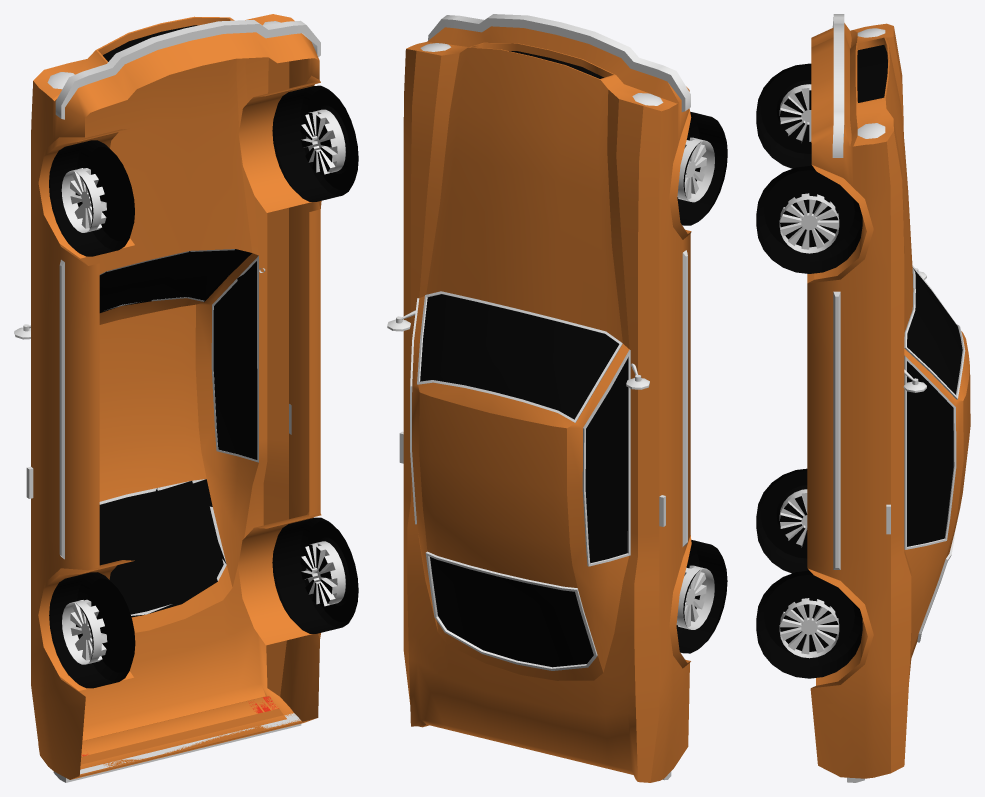
Rendered from car.fbx.
3 views of the same model, side by side, from view 1: azimuth 30°, elevation 25°; view 2: azimuth 150°, elevation 25°; view 3: azimuth 270°, elevation 25° (orthographic). The views are drawn at different scales.
Parts seen in each view (by area): view 1: Mustang, Circle.002, Circle.013, Circle.001, Circle.012, Circle.009, Circle.010, Circle.011, Circle.005, Circle.007; view 2: Mustang, Circle.012, Circle.013, Circle.009, Circle.005, Circle.007, Circle.006, Circle.010, Circle.008; view 3: Mustang, Circle.002, Circle.001, Circle.013, Circle.012, Circle.010, Circle.009, Circle.005, Circle.006.
Boxes of the visible parts, x1=… form: Mustang: x1=31, y1=14, x2=321, y2=779; Circle.002: x1=272, y1=517, x2=358, y2=633; Circle.013: x1=49, y1=140, x2=134, y2=256; Circle.001: x1=272, y1=85, x2=358, y2=201; Circle.012: x1=49, y1=572, x2=135, y2=688; Circle.009: x1=55, y1=20, x2=320, y2=119; Circle.010: x1=59, y1=259, x2=64, y2=559; Circle.011: x1=53, y1=713, x2=301, y2=782; Circle.005: x1=211, y1=256, x2=258, y2=462; Circle.007: x1=99, y1=479, x2=226, y2=615; Mustang: x1=403, y1=26, x2=691, y2=782; Circle.012: x1=676, y1=540, x2=727, y2=653; Circle.013: x1=677, y1=111, x2=727, y2=225; Circle.009: x1=428, y1=14, x2=690, y2=111; Circle.005: x1=410, y1=298, x2=630, y2=566; Circle.007: x1=425, y1=551, x2=597, y2=670; Circle.006: x1=417, y1=291, x2=622, y2=422; Circle.010: x1=682, y1=250, x2=687, y2=546; Circle.008: x1=387, y1=310, x2=649, y2=389; Mustang: x1=807, y1=23, x2=970, y2=778; Circle.002: x1=756, y1=570, x2=862, y2=678; Circle.001: x1=756, y1=166, x2=862, y2=273; Circle.013: x1=756, y1=63, x2=812, y2=168; Circle.012: x1=756, y1=468, x2=808, y2=573; Circle.010: x1=833, y1=291, x2=840, y2=569; Circle.009: x1=832, y1=14, x2=844, y2=157; Circle.005: x1=904, y1=355, x2=956, y2=549; Circle.006: x1=904, y1=265, x2=965, y2=399.
Bounding box in the file's own units: 132 × 342 × 97.49.
